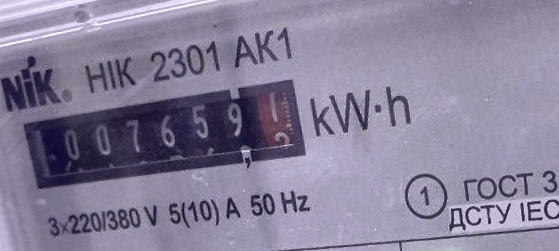0: (90, 118, 115, 161), (59, 124, 84, 165)
1: (260, 87, 284, 126)
5: (186, 100, 213, 143)
6: (153, 109, 180, 152)
7: (121, 114, 148, 156)
9: (222, 98, 248, 140)
screen: (12, 72, 313, 201)
